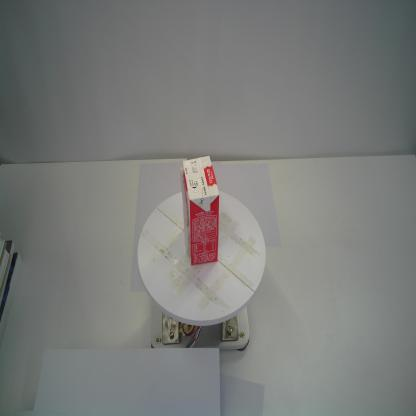Milk: (181, 154, 221, 268)
